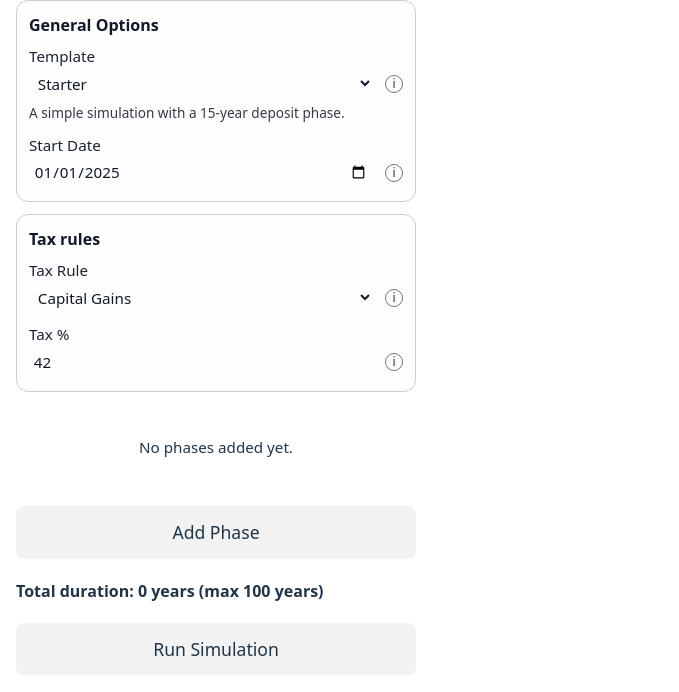
NormalInputForm info tooltips › shows an info tooltip for Tax %
The width and height of the screenshot is (679, 692).
Click the button named "info: tax percentage".
click(394, 362)  # box [385, 353, 403, 371]
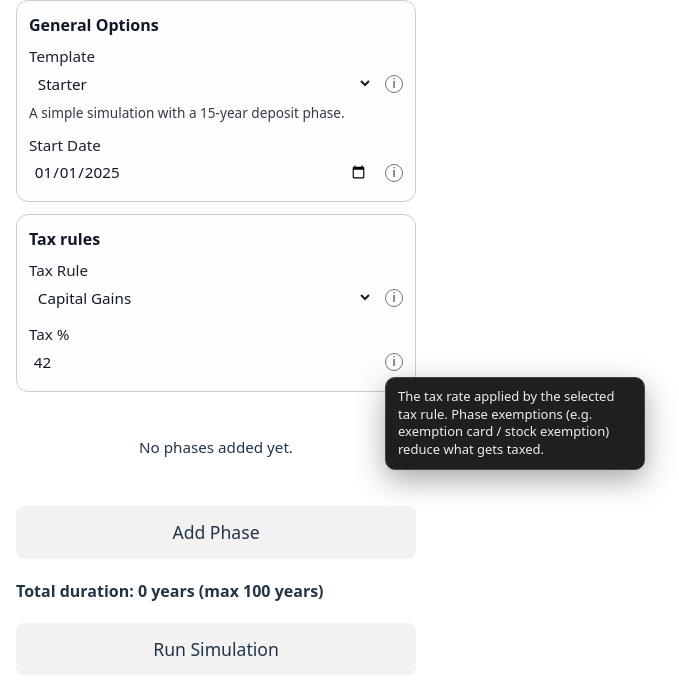
Now the tooltip shows "tax rate applied", box [398, 387, 614, 458]
